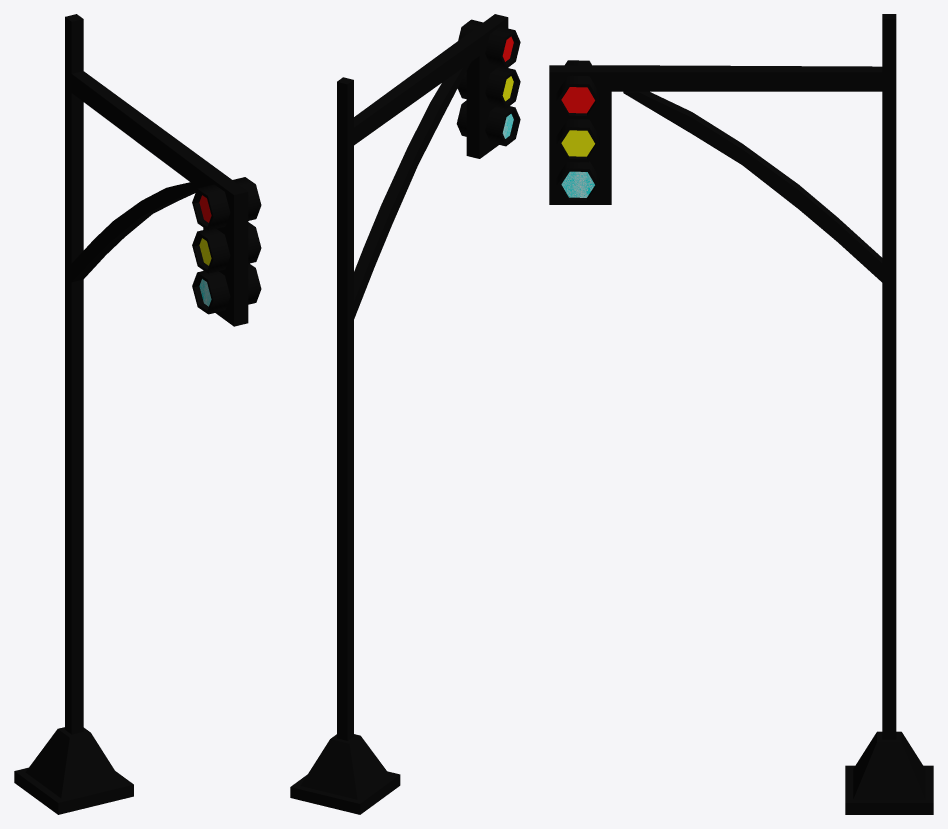
File: traffic light.FBX
3 views of the same model, side by side, from view 1: azimuth 30°, elevation 25°; view 2: azimuth 150°, elevation 25°; view 3: azimuth 270°, elevation 25° (orthographic). The views are drawn at different scales.
Parts seen in each view (by area): view 1: Box001; view 2: Box001; view 3: Box001.
Part boxes in pixels (<box>): Box001: <box>14,14,261,814</box>; Box001: <box>290,14,520,814</box>; Box001: <box>549,14,933,814</box>.
Bounding box in the file's own units: 20 × 195 × 86.92.
